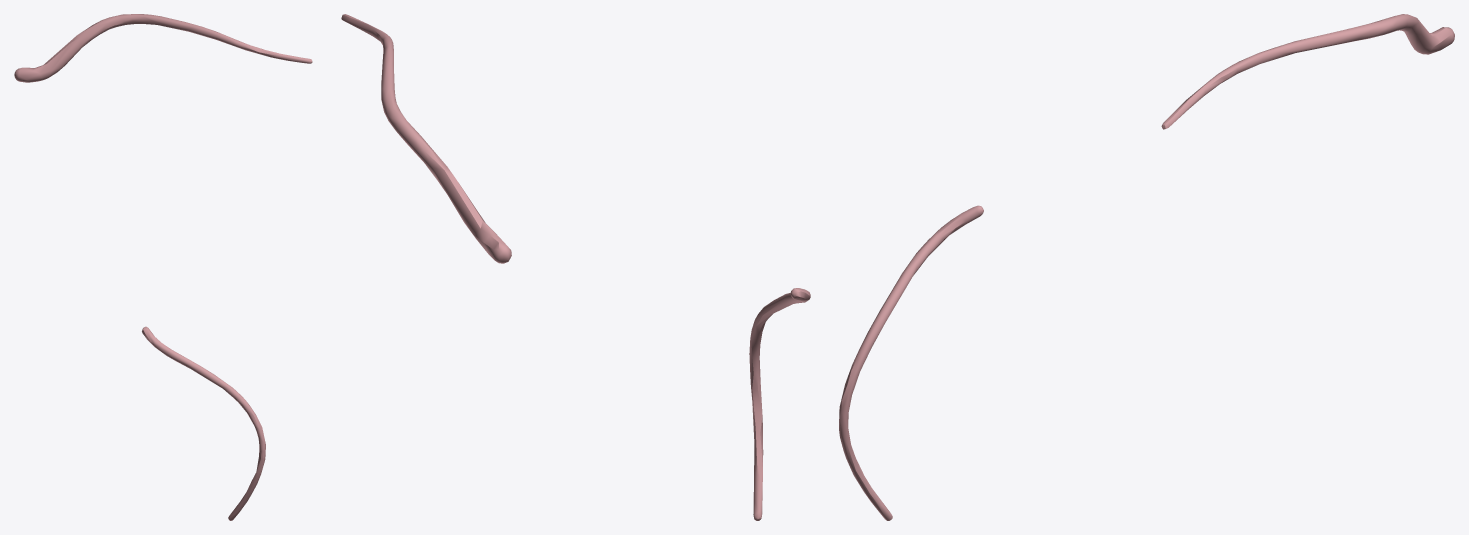
Rendered from fma71887_fj3090.glb.
The picture shows the model from 3 angles, left to right: view 1: azimuth 30°, elevation 25°; view 2: azimuth 150°, elevation 25°; view 3: azimuth 270°, elevation 25°; orthographic projection. The views are drawn at different scales.
Parts seen in each view (by area): view 1: FMA71887_FJ3090; view 2: FMA71887_FJ3090; view 3: FMA71887_FJ3090.
Part boxes in pixels (x1,y1,x2,y2): FMA71887_FJ3090: [14, 14, 312, 520]; FMA71887_FJ3090: [341, 14, 810, 520]; FMA71887_FJ3090: [839, 14, 1454, 520].
Size of the model in its own units: 0.0311 by 0.0474 by 0.048.
